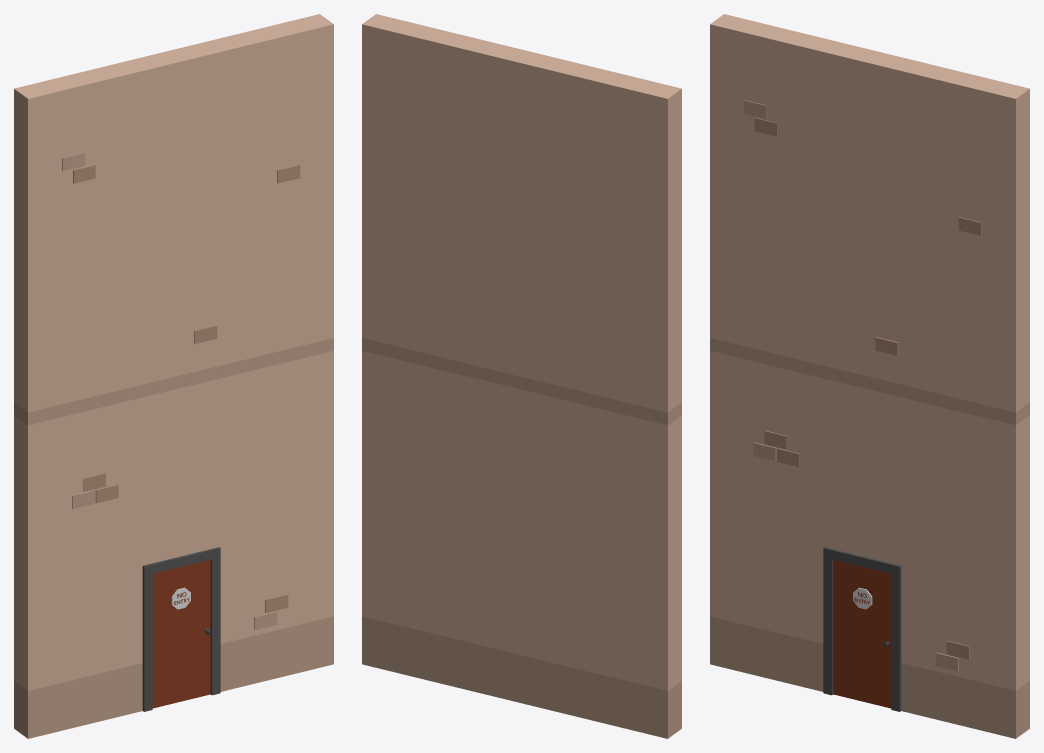
Rendered from Wall_09.fbx.
3 renders of one model, left to right at view 1: azimuth 30°, elevation 25°; view 2: azimuth 150°, elevation 25°; view 3: azimuth 330°, elevation 25°, orthographic.
Visible parts, largest first — view 1: Wall_09; view 2: Wall_09; view 3: Wall_09.
Part boxes in pixels (x1,y1,x2,y2): Wall_09: (14, 14, 333, 738); Wall_09: (362, 14, 681, 738); Wall_09: (710, 14, 1029, 738).
Size of the model in its own units: 500 by 1000 by 48.04.
